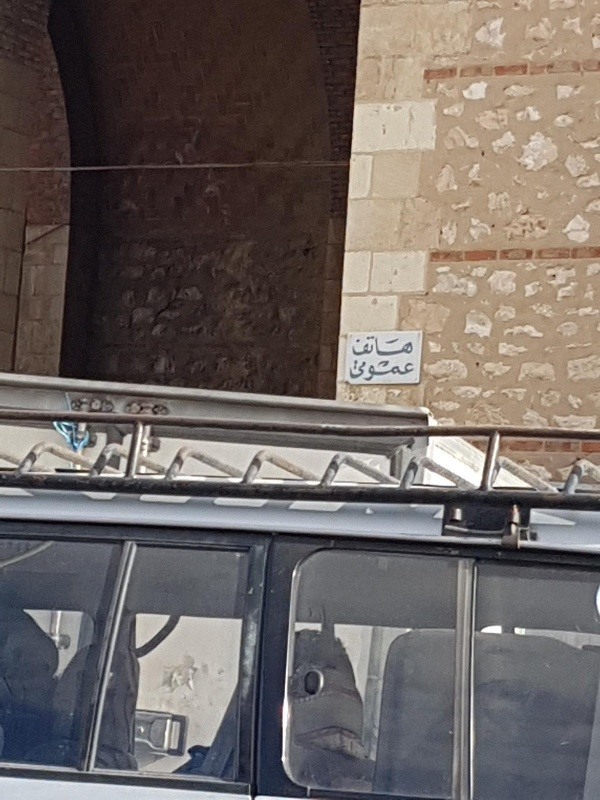text: (353, 335, 368, 358), (369, 335, 384, 358), (385, 335, 400, 358), (353, 360, 368, 382), (369, 360, 384, 382), (385, 360, 400, 382), (401, 360, 415, 382), (401, 335, 414, 358), (348, 360, 352, 382), (351, 335, 352, 358)
